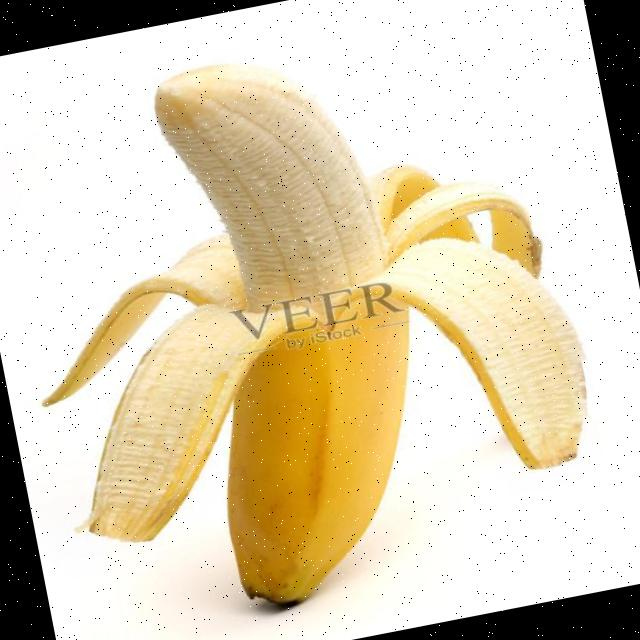banana-peel: (0, 4, 620, 640)
